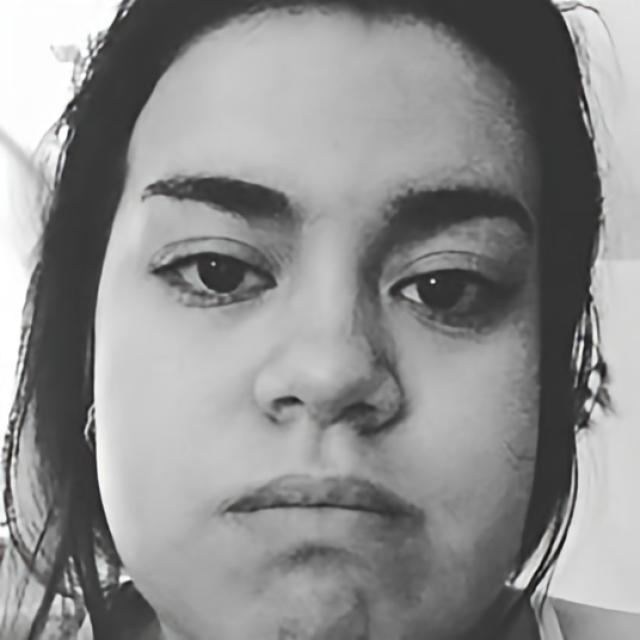neutral: (92, 3, 544, 640)
